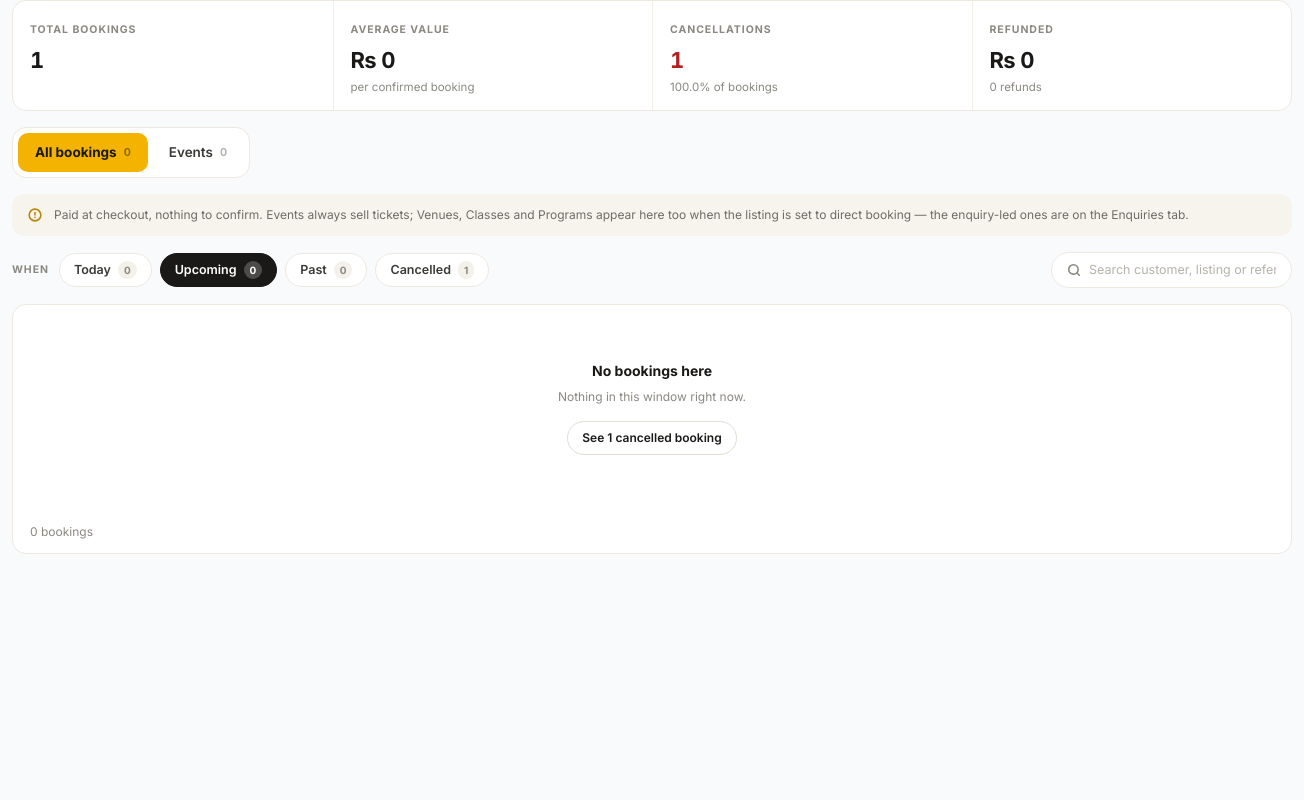
Test: a cancelled booking never looks deleted (QA: "the booking was gone") › an empty Upcoming points at the cancelled booking
Check: the text "No bookings here" is shown, box left=592, top=361, right=712, bottom=381
Click the button "See 1 cancelled booking": [652, 438] box left=567, top=421, right=737, bottom=455
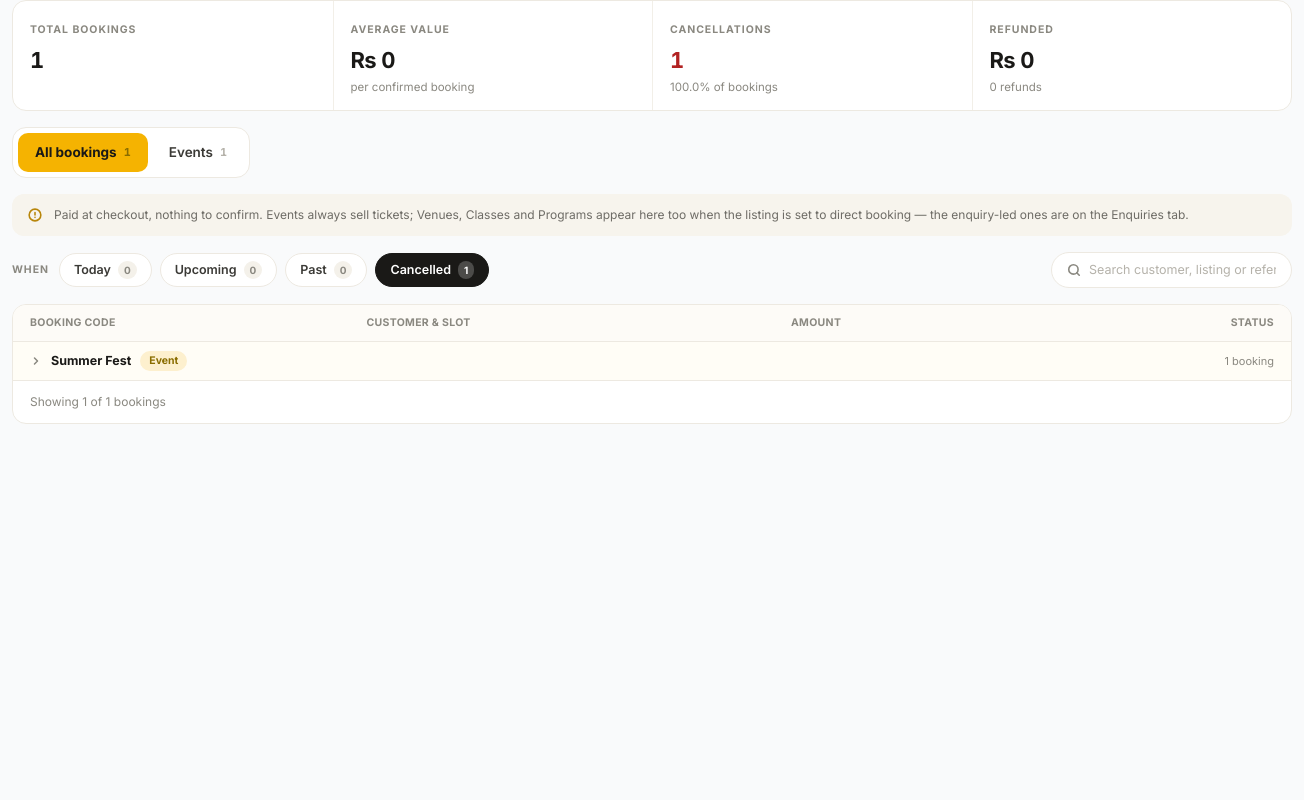
Click the button "Summer Fest Event 1 booking": [91, 360] box left=13, top=342, right=1291, bottom=381
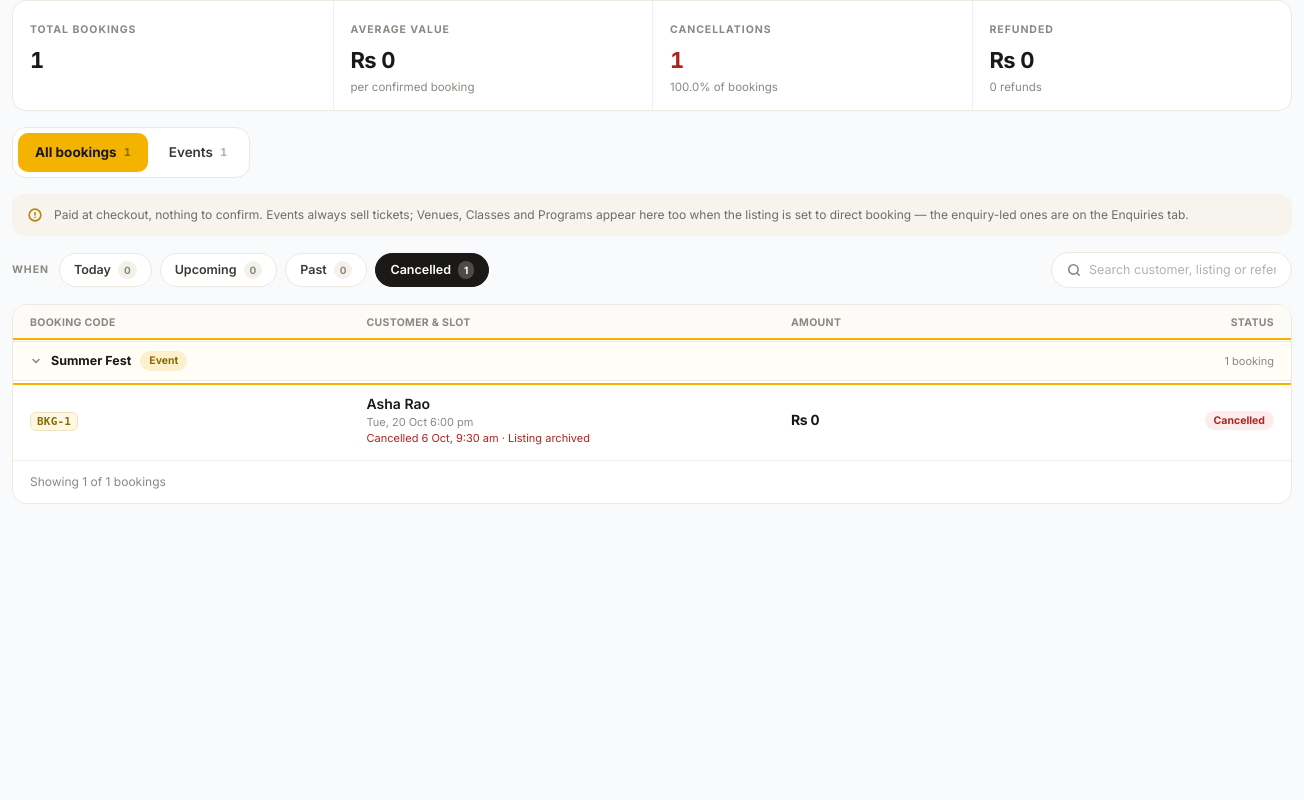
Check: the text "Asha Rao" is shown, box left=366, top=395, right=430, bottom=412
